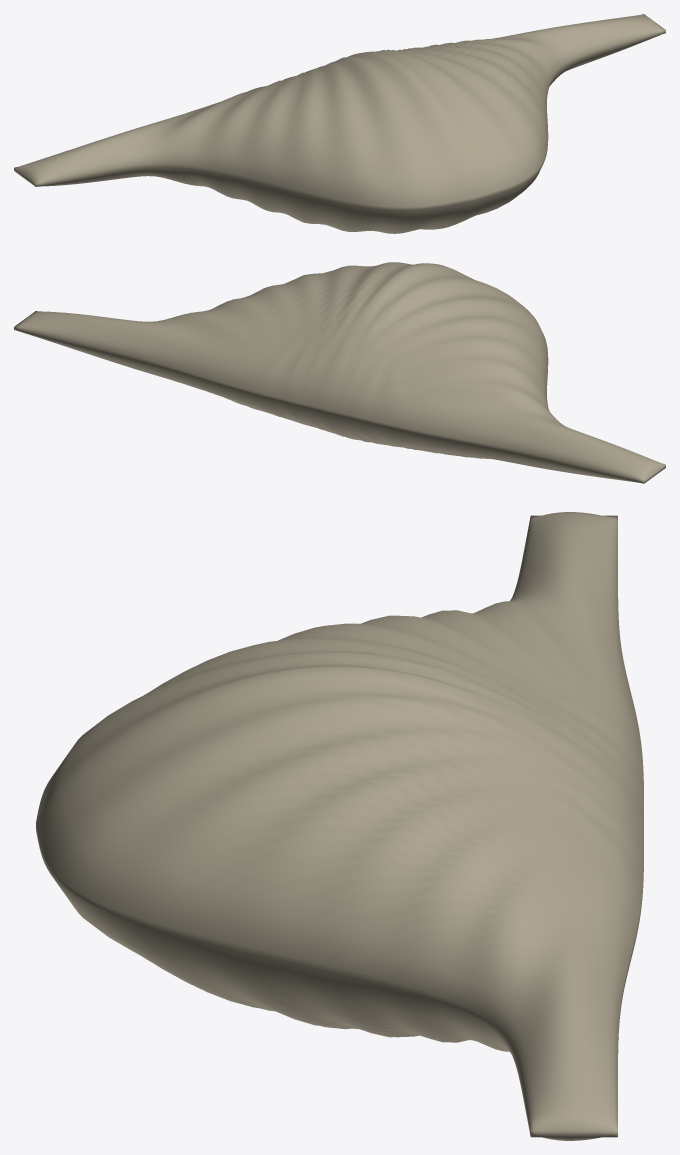
Rendered from mucrospirifer.glb.
The picture shows the model from 3 angles, top to bottom: view 1: azimuth 30°, elevation 25°; view 2: azimuth 150°, elevation 25°; view 3: azimuth 270°, elevation 25°; orthographic projection. The views are drawn at different scales.
Visible parts, largest first — view 1: continuous-long-hinge-wing-folded-ribbed-shell; view 2: continuous-long-hinge-wing-folded-ribbed-shell; view 3: continuous-long-hinge-wing-folded-ribbed-shell.
Part boxes in pixels (box(x1,y1,x2,y2)): continuous-long-hinge-wing-folded-ribbed-shell: box(14, 14, 665, 233); continuous-long-hinge-wing-folded-ribbed-shell: box(14, 262, 665, 483); continuous-long-hinge-wing-folded-ribbed-shell: box(36, 512, 643, 1140).
Bounding box in the file's own units: 0.1 × 0.0231 × 0.0418.
